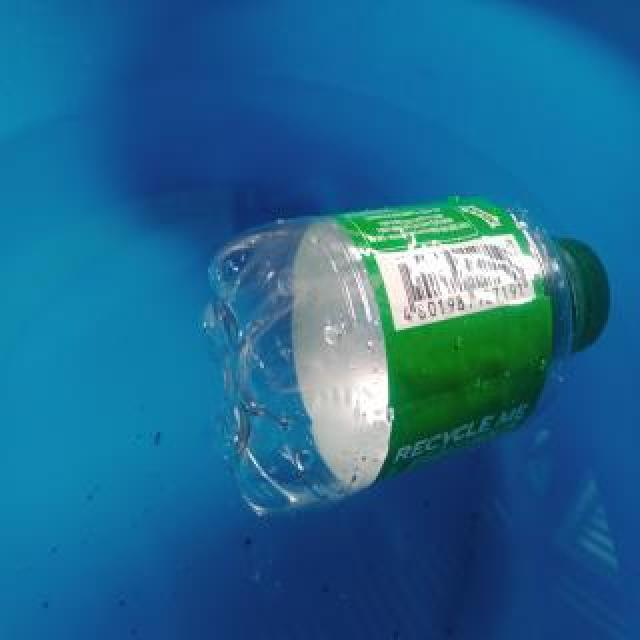bottle: (201, 193, 609, 515)
